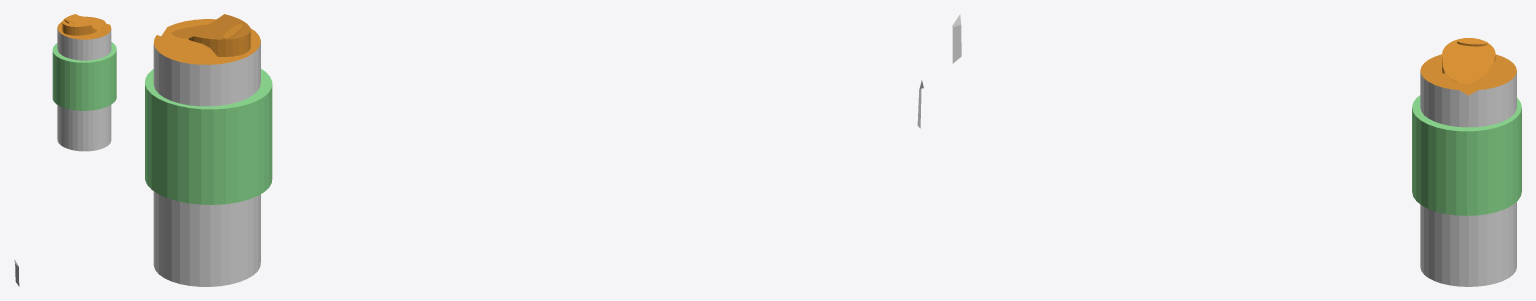
File: Vaso.fbx
3 renders of one model, left to right at view 1: azimuth 30°, elevation 25°; view 2: azimuth 150°, elevation 25°; view 3: azimuth 270°, elevation 25°, orthographic. The views are drawn at different scales.
Parts seen in each view (by area): view 1: Cilindro.004, Cilindro.005, Cilindro.006; view 2: Cilindro.004, Cilindro.005, Cilindro.006; view 3: Cilindro.004, Cilindro.005, Cilindro.006.
Part boxes in pixels (x1,y1,x2,y2): Cilindro.004: (14,28,111,286); Cilindro.005: (52,42,116,110); Cilindro.006: (57,14,111,39); Cilindro.004: (153,40,923,286); Cilindro.005: (145,69,272,204); Cilindro.006: (153,14,260,64); Cilindro.004: (952,14,1516,286); Cilindro.005: (1412,95,1521,215); Cilindro.006: (1420,38,1516,95).
Size of the model in its own units: 1032 by 496 by 1195.
